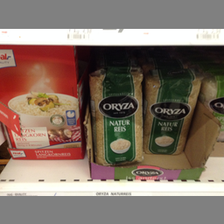rice: (1, 44, 84, 148), (88, 69, 144, 166), (142, 69, 201, 154)
